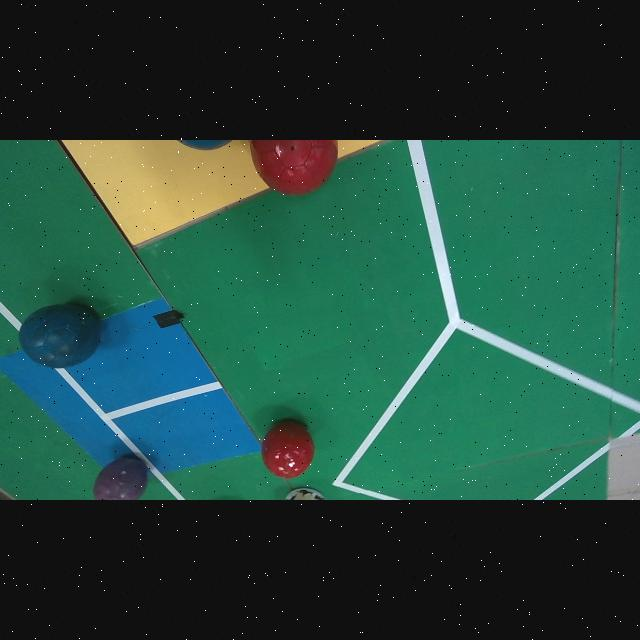B: (19, 304, 101, 368)
P: (93, 457, 148, 500)
R: (250, 140, 338, 195), (262, 421, 315, 479)
